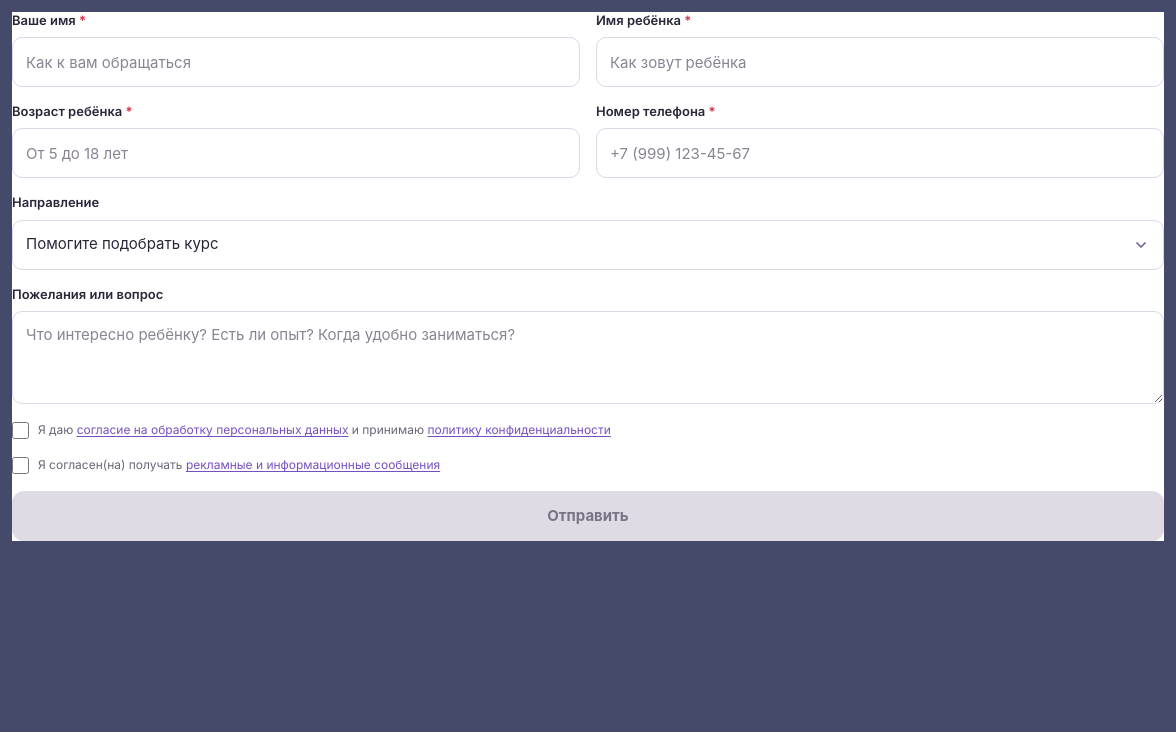
Test case: children CAPTCHA load failure › never sends an application without a token and explains page reload
Step 1. Type "Тестовый родитель" into the field labelled "Ваше имя *" → (296, 62), box [12,37,580,87]
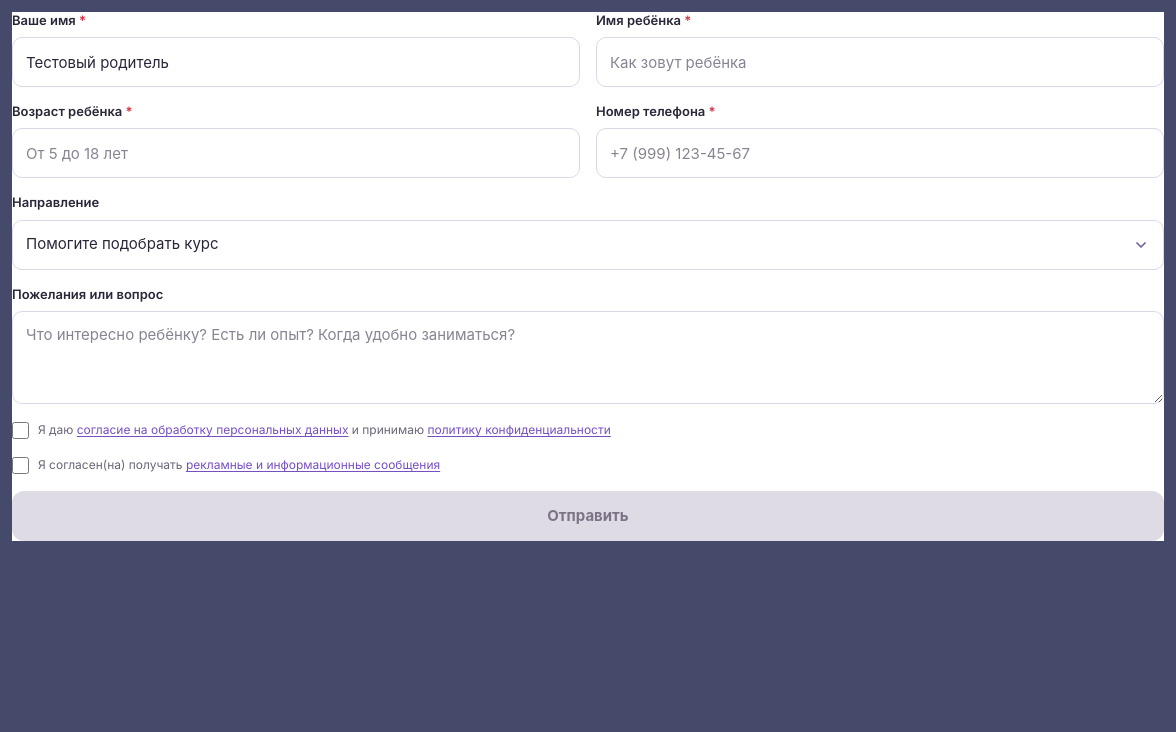
Step 2. Type "8 (999) 123-45-67" into the field labelled "Номер телефона *" → (880, 153), box [596,128,1164,178]
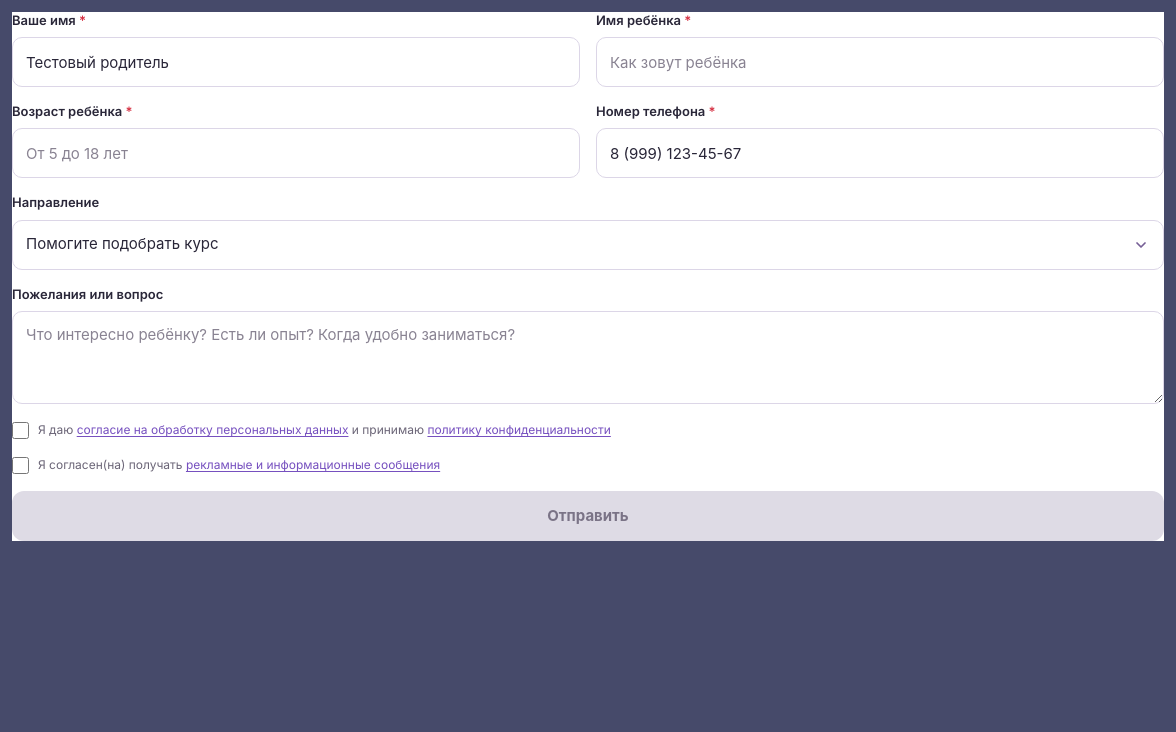
Step 3. Type "Александр" into the field labelled "Имя ребёнка *" → (880, 62), box [596,37,1164,87]
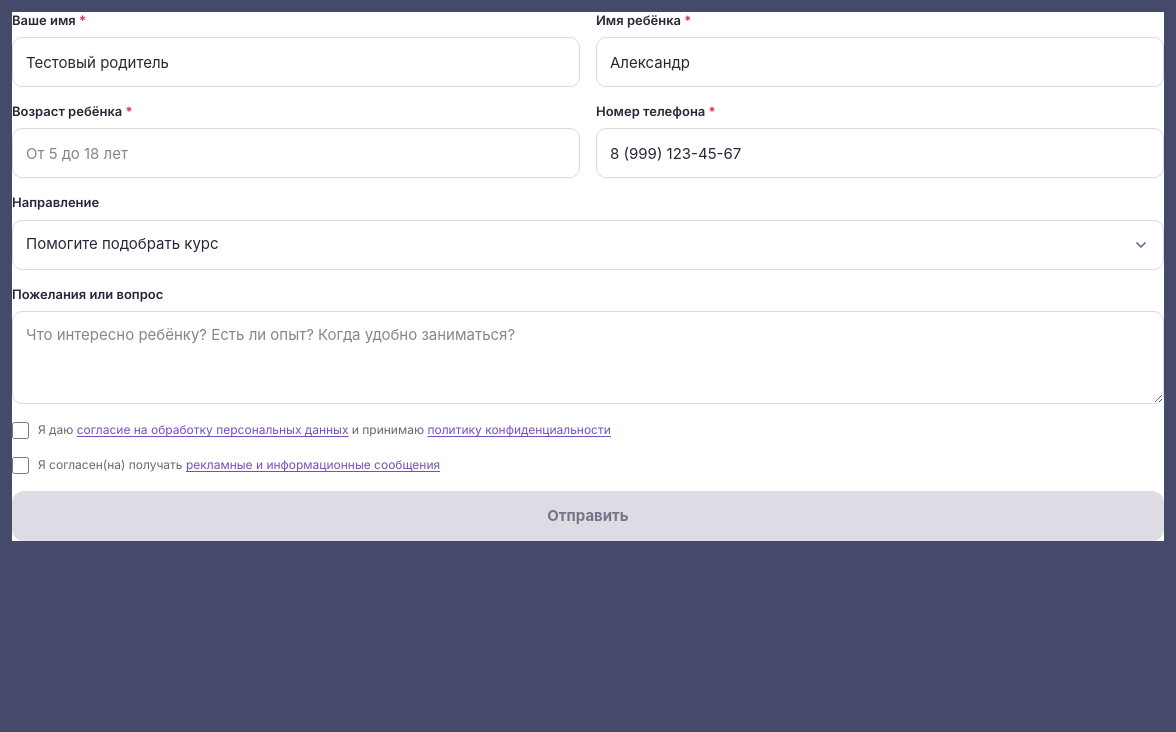
Step 4. Type "12" into the number field labelled "Возраст ребёнка *" → (296, 153), box [12,128,580,178]
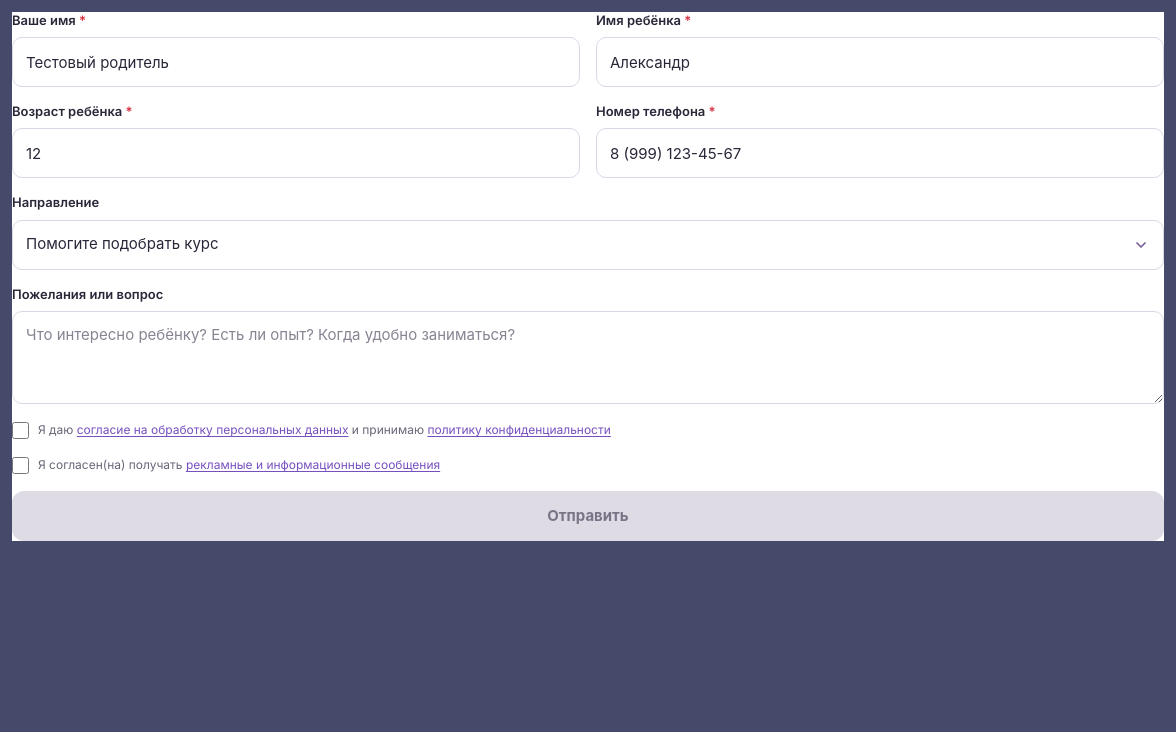
Step 5. Click the checkbox labelled "обработку персональных данных" → (20, 431), box [12,422,29,439]
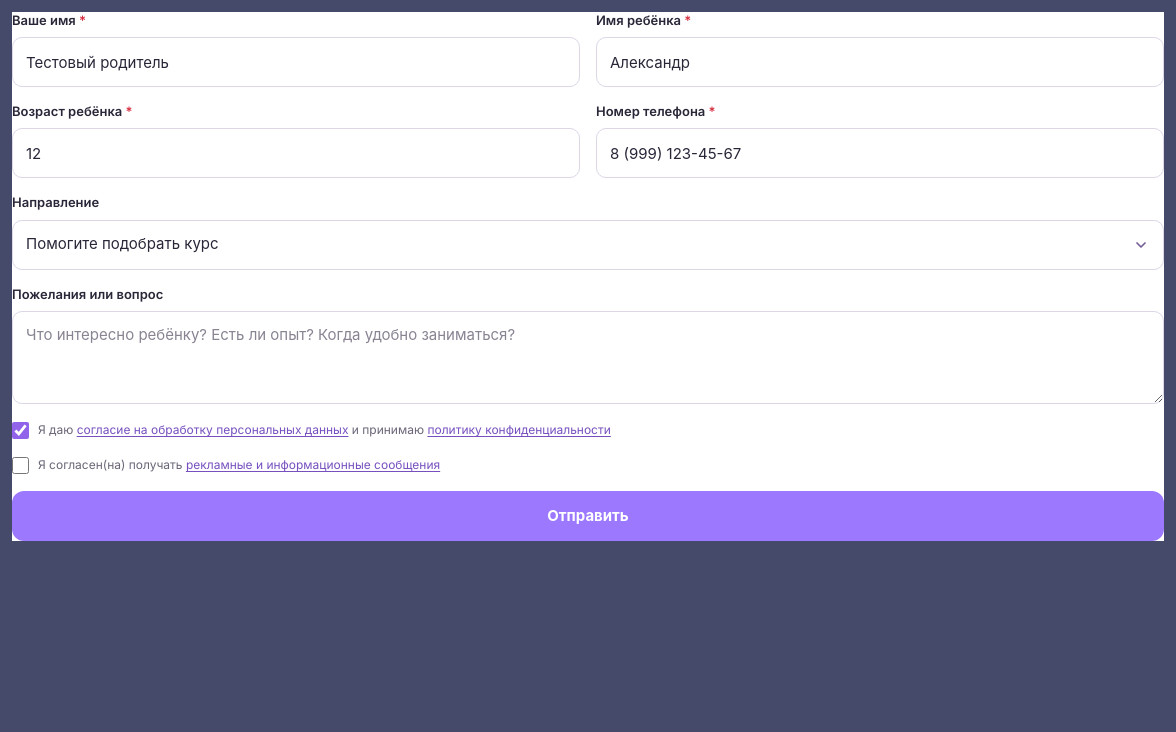
Step 6. Click the button "Отправить" → (588, 516), box [12,491,1164,541]
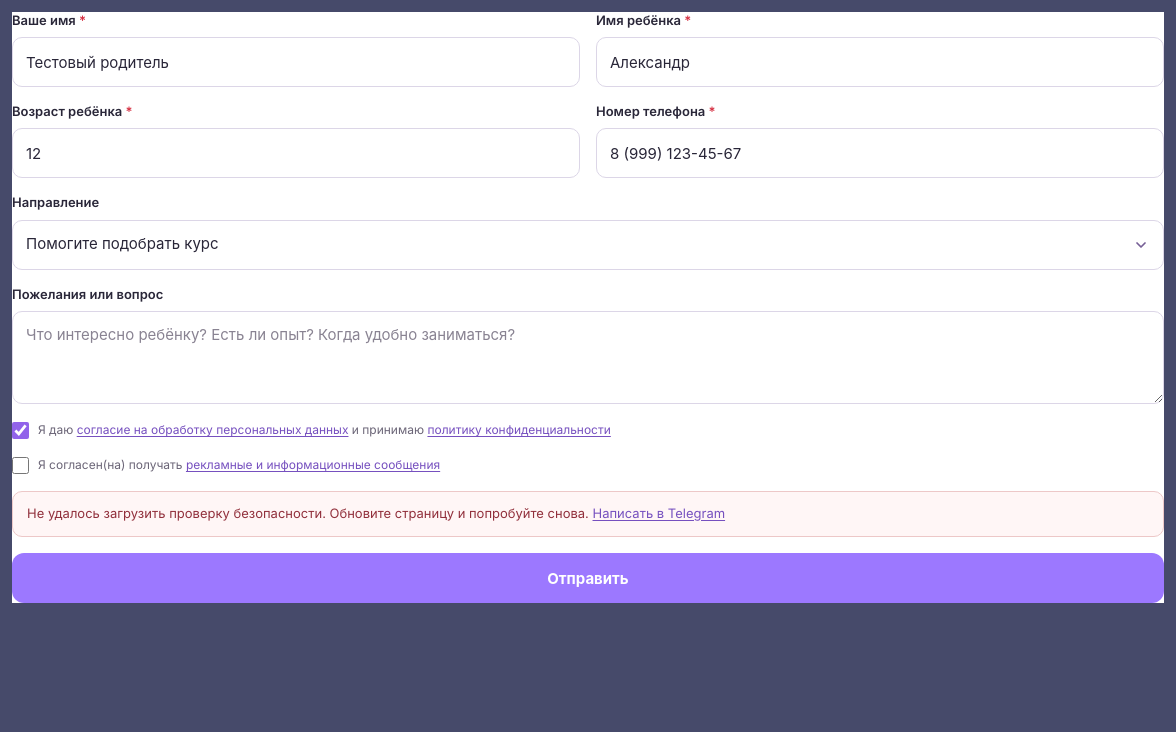
Expected: the button "Отправить" is enabled, [12,553,1164,603]
Expected: the message shows "Обновите страницу", [27,506,589,522]
